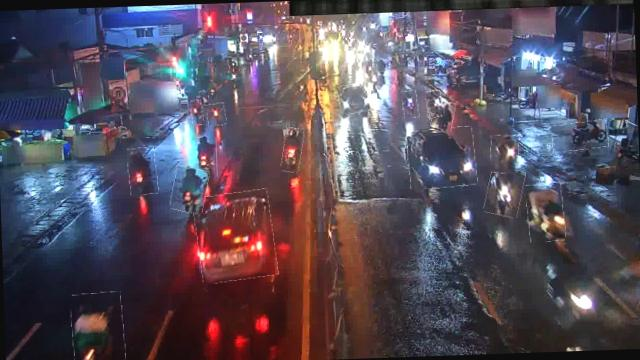Bike: (69, 291, 125, 360), (526, 182, 565, 242), (484, 166, 525, 217), (170, 166, 209, 213), (551, 121, 608, 152), (127, 147, 158, 195), (187, 138, 217, 178), (489, 135, 518, 174), (282, 127, 304, 173), (430, 100, 456, 132), (426, 90, 444, 118), (206, 103, 226, 126), (402, 91, 418, 119), (190, 100, 203, 125)
Car: (194, 190, 276, 282), (406, 127, 476, 189), (337, 84, 369, 115)
